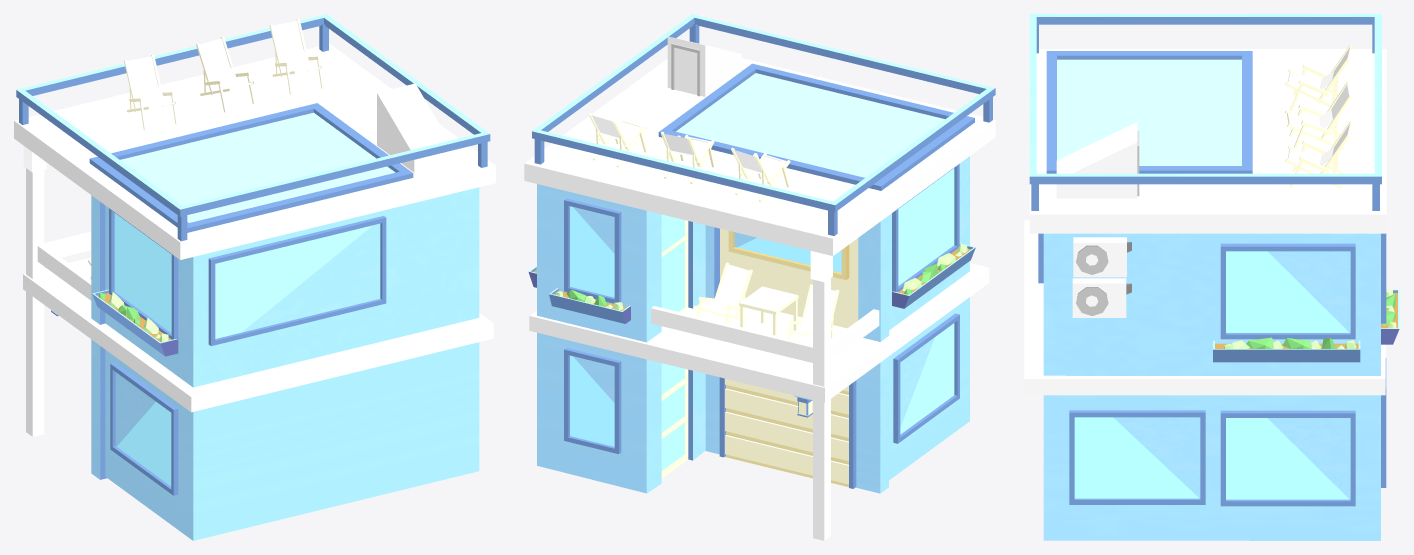
File: dwelling modern.009.glb
3 views of the same model, side by side, from view 1: azimuth 30°, elevation 25°; view 2: azimuth 150°, elevation 25°; view 3: azimuth 270°, elevation 25° (orthographic). The views are drawn at different scales.
Parts seen in each view (by area): view 1: dwelling modern.009(Clone); view 2: dwelling modern.009(Clone); view 3: dwelling modern.009(Clone).
Part boxes in pixels (x1,y1,x2,y2): dwelling modern.009(Clone): (14,14,495,540); dwelling modern.009(Clone): (524,14,995,540); dwelling modern.009(Clone): (1024,14,1399,540).
Size of the model in its own units: 6.68 by 7.2 by 6.23.
Materials: 1 (1 with a texture image).
